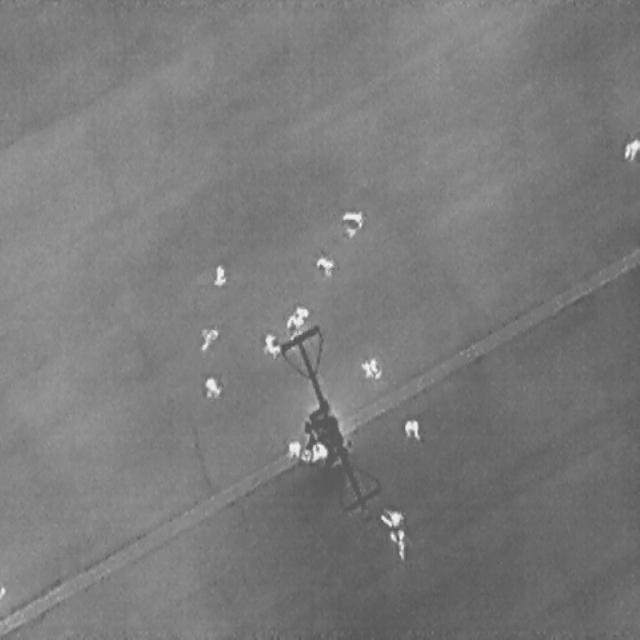Person: (193, 318, 218, 354), (283, 300, 309, 334), (389, 528, 405, 562), (262, 332, 280, 358), (359, 358, 382, 378), (379, 506, 402, 526), (341, 206, 362, 226), (403, 418, 420, 442), (314, 254, 333, 274), (623, 135, 638, 160), (203, 375, 220, 397), (311, 442, 327, 460), (213, 264, 225, 286), (286, 439, 300, 456)
